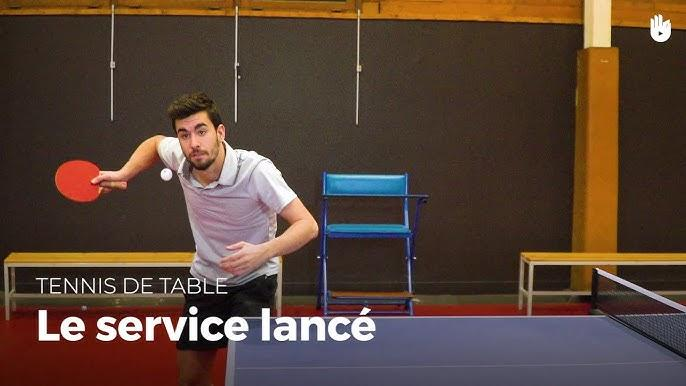ball_pingpong: (159, 169, 173, 181)
